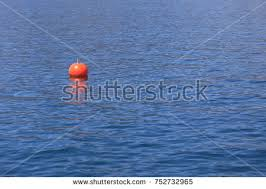buoy: (69, 63, 88, 77)
